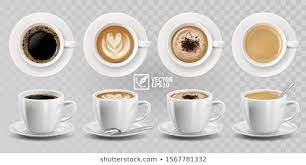cup: (3, 87, 82, 145), (14, 20, 78, 69)
